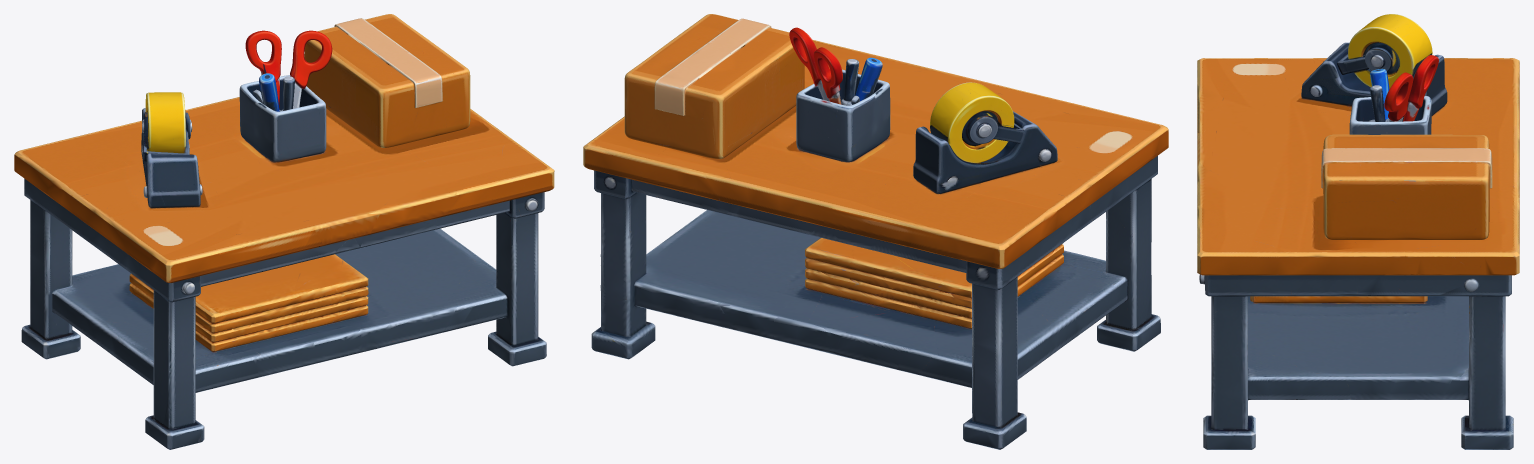
The model's file is packing-station.glb.
The picture shows the model from 3 angles, left to right: view 1: azimuth 30°, elevation 25°; view 2: azimuth 150°, elevation 25°; view 3: azimuth 270°, elevation 25°; orthographic projection. The views are drawn at different scales.
Bounding box in the file's own units: 1.9 × 1.37 × 1.31.
1 material, 1 textured.
